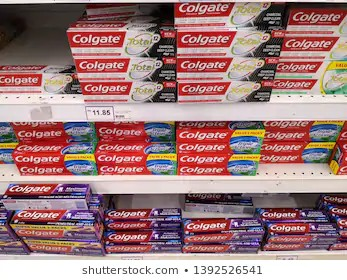colgate-family: (13, 144, 93, 174), (94, 145, 175, 174), (178, 127, 263, 154), (176, 153, 255, 177)
